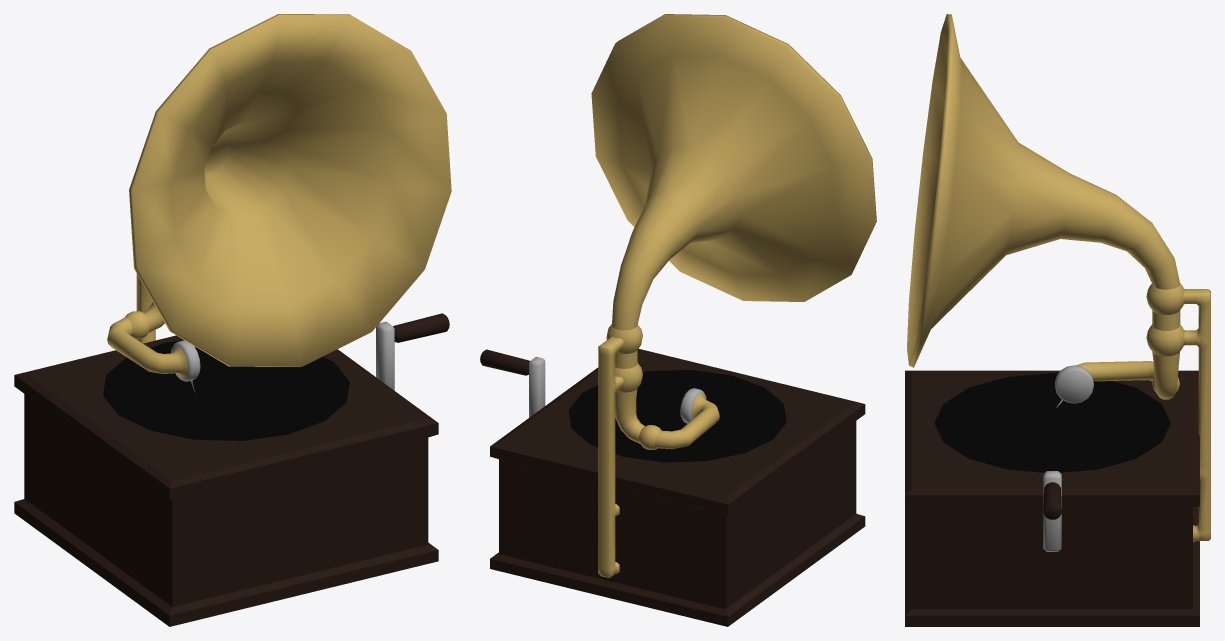
File: Gromophone.fbx
3 views of the same model, side by side, from view 1: azimuth 30°, elevation 25°; view 2: azimuth 150°, elevation 25°; view 3: azimuth 270°, elevation 25° (orthographic). The views are drawn at different scales.
Parts seen in each view (by area): view 1: Corpus, Corpus.002, Plate, Handle, Tube2, Needle; view 2: Corpus, Corpus.002, Plate, Handle, Tube2, Tube; view 3: Corpus.002, Corpus, Plate, Handle, Tube2, Needle, Tube.
Boxes of the visible parts, x1,y1,x2,y2 form: Corpus: [129, 14, 451, 366]; Corpus.002: [14, 335, 438, 626]; Plate: [103, 340, 349, 440]; Handle: [376, 313, 449, 390]; Tube2: [107, 317, 187, 376]; Needle: [171, 340, 200, 391]; Corpus: [591, 14, 876, 577]; Corpus.002: [490, 348, 865, 626]; Plate: [568, 370, 786, 462]; Handle: [480, 349, 545, 417]; Tube2: [654, 394, 719, 449]; Tube: [615, 389, 644, 443]; Corpus.002: [905, 370, 1199, 626]; Corpus: [907, 14, 1210, 541]; Plate: [934, 373, 1170, 472]; Handle: [1043, 471, 1061, 551]; Tube2: [1076, 361, 1154, 381]; Needle: [1055, 365, 1093, 407]; Tube: [1152, 352, 1179, 399].
Size of the model in its own units: 251 by 359 by 185.
